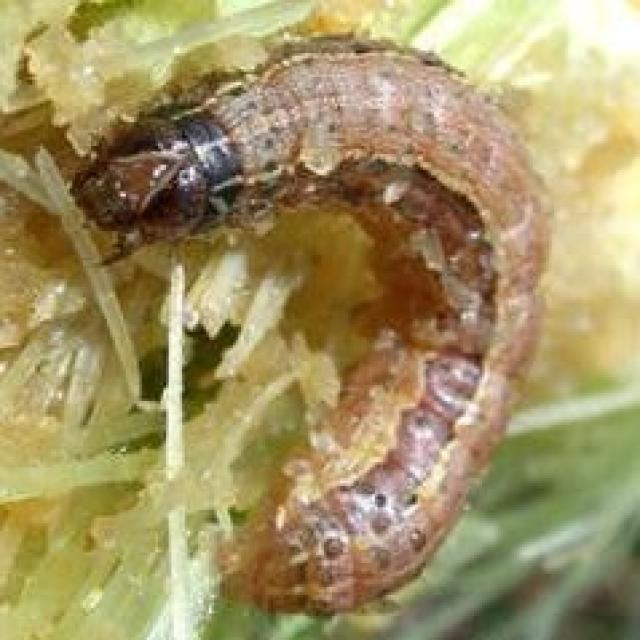army worm: (66, 32, 564, 619)
